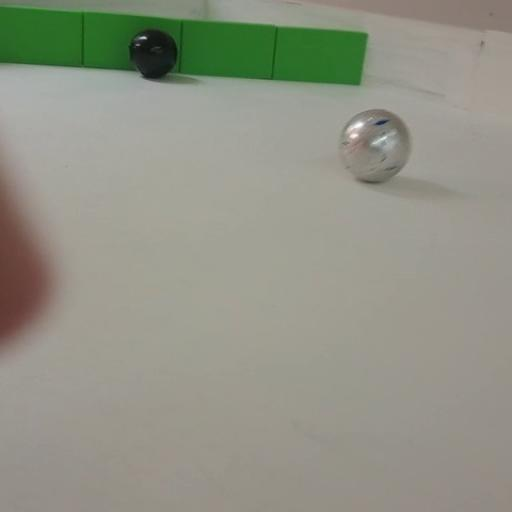alive: (339, 108, 411, 182)
dead: (129, 29, 177, 79)
